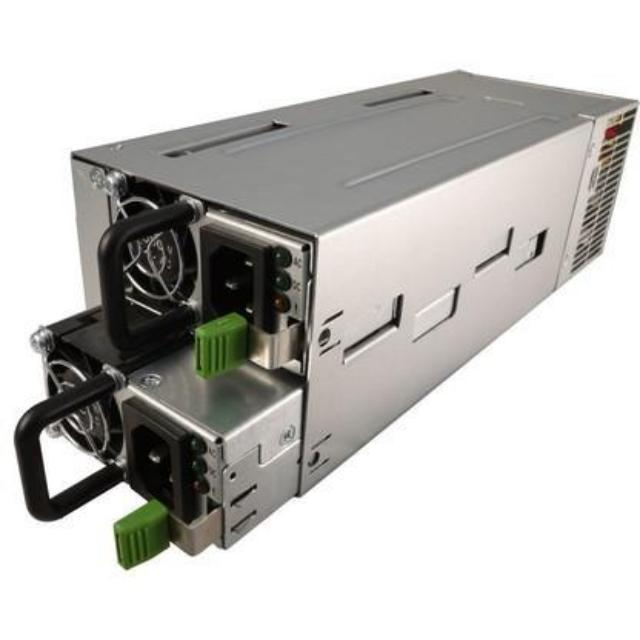PSU: (0, 37, 640, 552)
